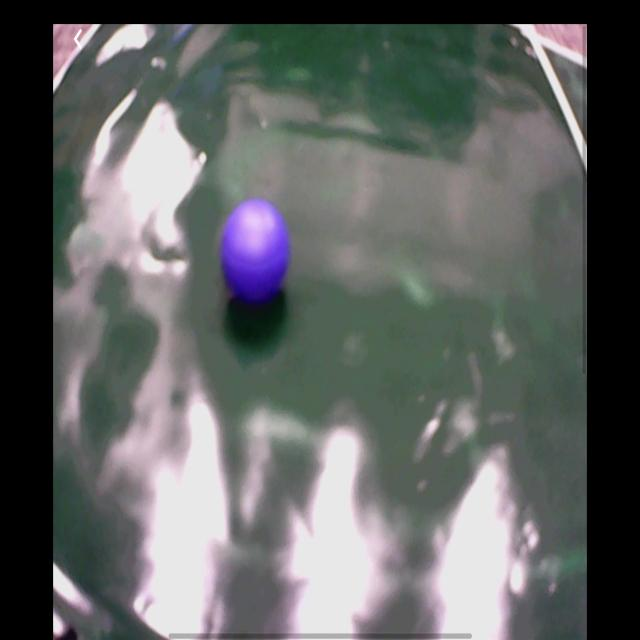ball: (222, 199, 291, 306)
